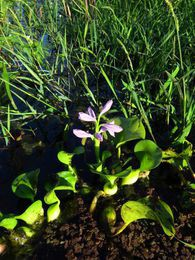water_hyacinth: (1, 102, 180, 243)
